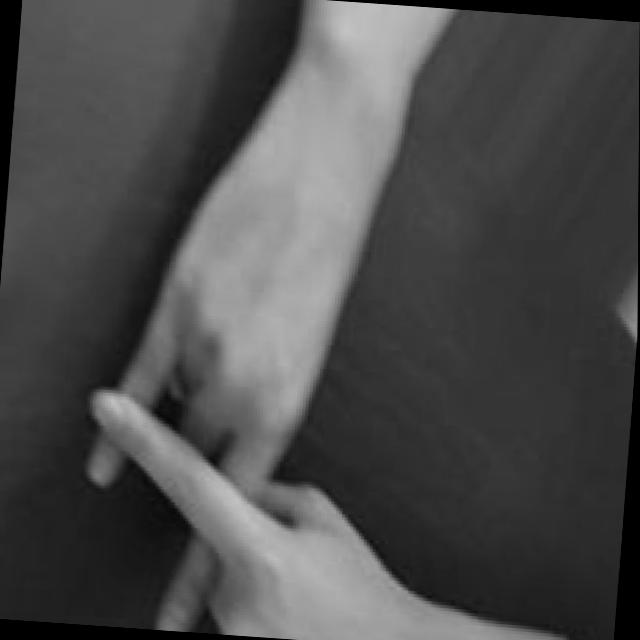H: (62, 214, 482, 640)
